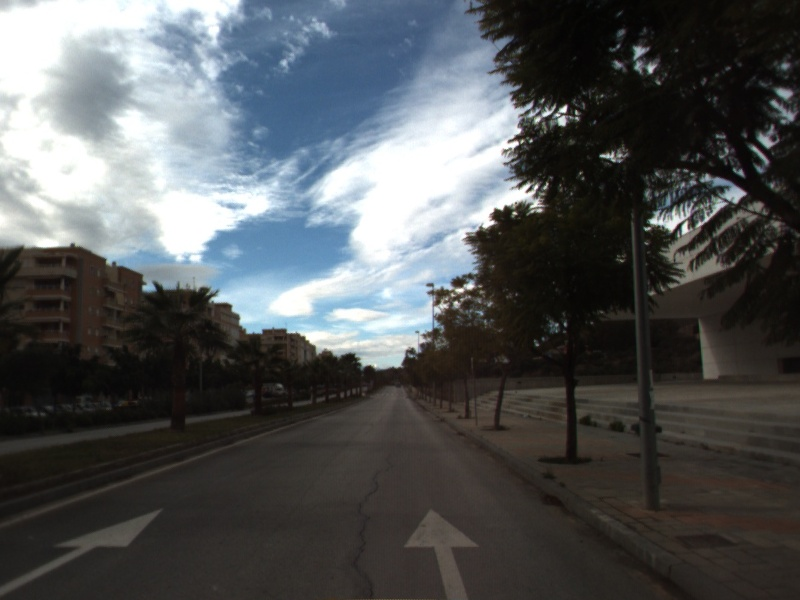STRAIGHT: (1, 506, 167, 598), (401, 505, 482, 600)
